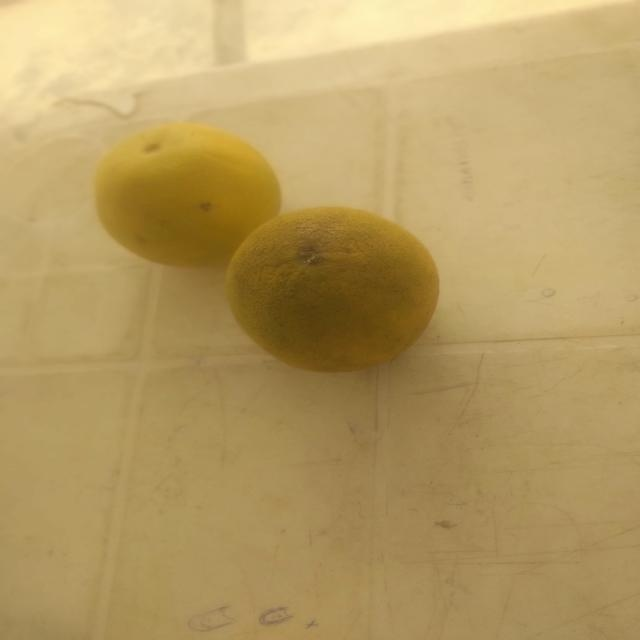agrume: (212, 210, 447, 384), (68, 129, 274, 283)
